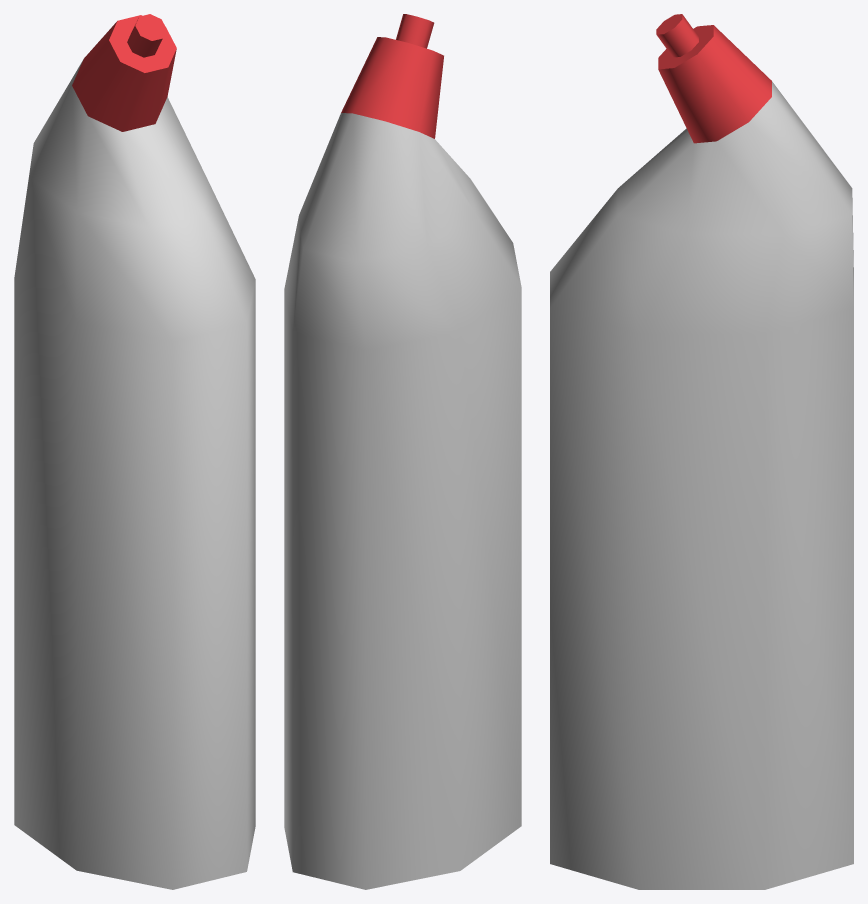
The model's file is bottle_cleaning_toilet.fbx.
3 renders of one model, left to right at view 1: azimuth 30°, elevation 25°; view 2: azimuth 150°, elevation 25°; view 3: azimuth 270°, elevation 25°, orthographic. The views are drawn at different scales.
Visible parts, largest first — view 1: Bottle_Toiletsoap; view 2: Bottle_Toiletsoap; view 3: Bottle_Toiletsoap.
Boxes of the visible parts, box(x1,y1,x2,y2) form: Bottle_Toiletsoap: box(14, 14, 255, 889); Bottle_Toiletsoap: box(284, 14, 521, 889); Bottle_Toiletsoap: box(550, 14, 853, 889).
Size of the model in its own units: 47.78 by 209 by 69.31.
